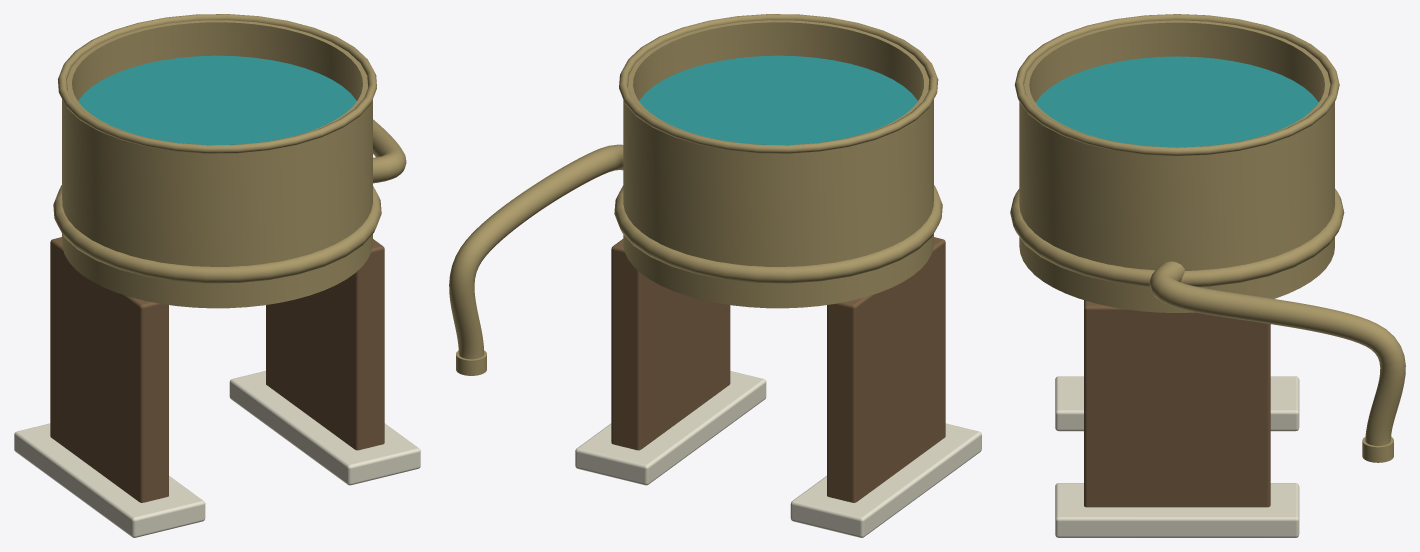
File: water-clock-garden-and-hydraulic-puzzles-constant-head-d056b14d__31923.glb
The picture shows the model from 3 angles, left to right: view 1: azimuth 30°, elevation 25°; view 2: azimuth 150°, elevation 25°; view 3: azimuth 270°, elevation 25°; orthographic projection.
Parts seen in each view (by area): view 1: constant-head-header-vessel; view 2: constant-head-header-vessel; view 3: constant-head-header-vessel.
Part boxes in pixels (left/top/right/bottom): constant-head-header-vessel: left=14, top=14, right=420, bottom=537; constant-head-header-vessel: left=449, top=14, right=981, bottom=537; constant-head-header-vessel: left=1010, top=14, right=1405, bottom=537.
Bounding box in the file's own units: 1.5 × 1.49 × 1.38.
